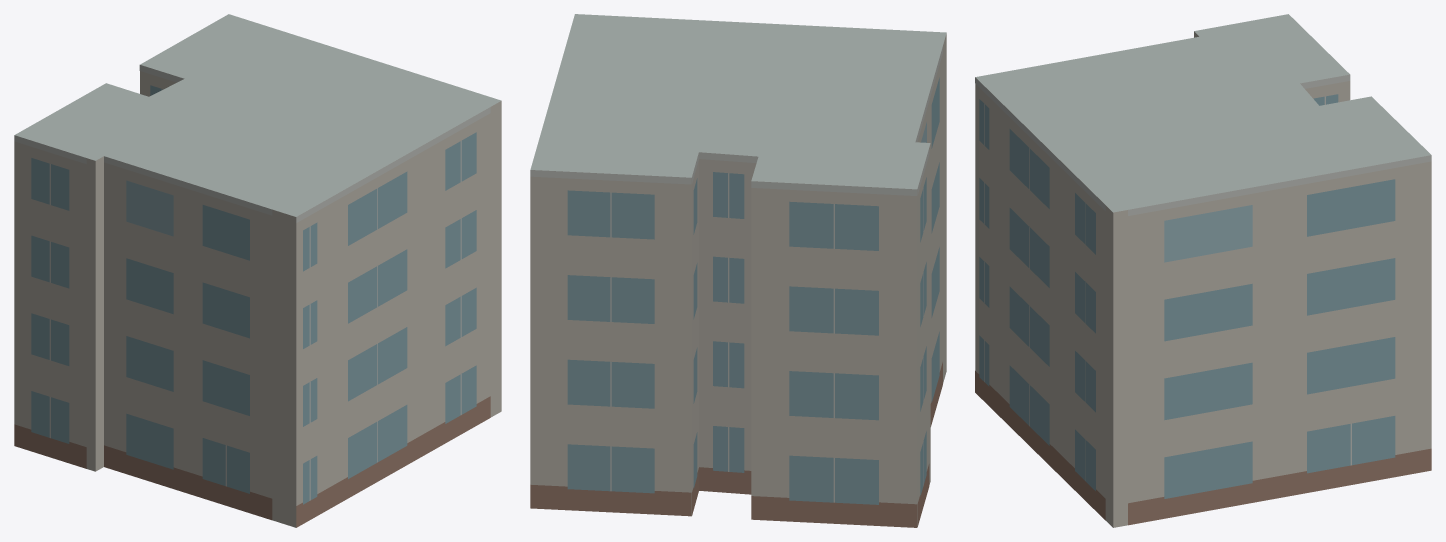
Rendered from survey-upis-33014883.glb.
3 renders of one model, left to right at view 1: azimuth 30°, elevation 25°; view 2: azimuth 150°, elevation 25°; view 3: azimuth 270°, elevation 25°, orthographic. The views are drawn at different scales.
Parts seen in each view (by area): view 1: survey-upis-33014883.tmp; view 2: survey-upis-33014883.tmp; view 3: survey-upis-33014883.tmp.
Part boxes in pixels (x1,y1,x2,y2): survey-upis-33014883.tmp: (14, 14, 501, 527); survey-upis-33014883.tmp: (530, 14, 946, 527); survey-upis-33014883.tmp: (975, 14, 1431, 527).
Size of the model in its own units: 16.47 by 12.2 by 16.01.
